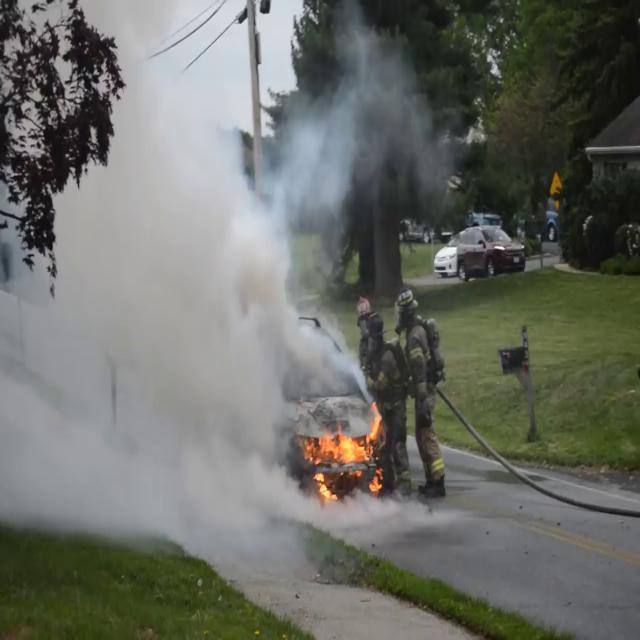Fire: (302, 406, 386, 501)
Smoke: (6, 1, 448, 558)
